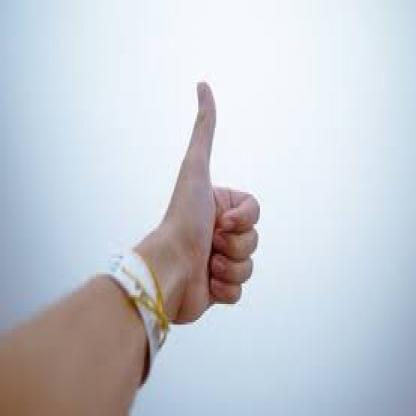thumb_up: (160, 76, 260, 325)
